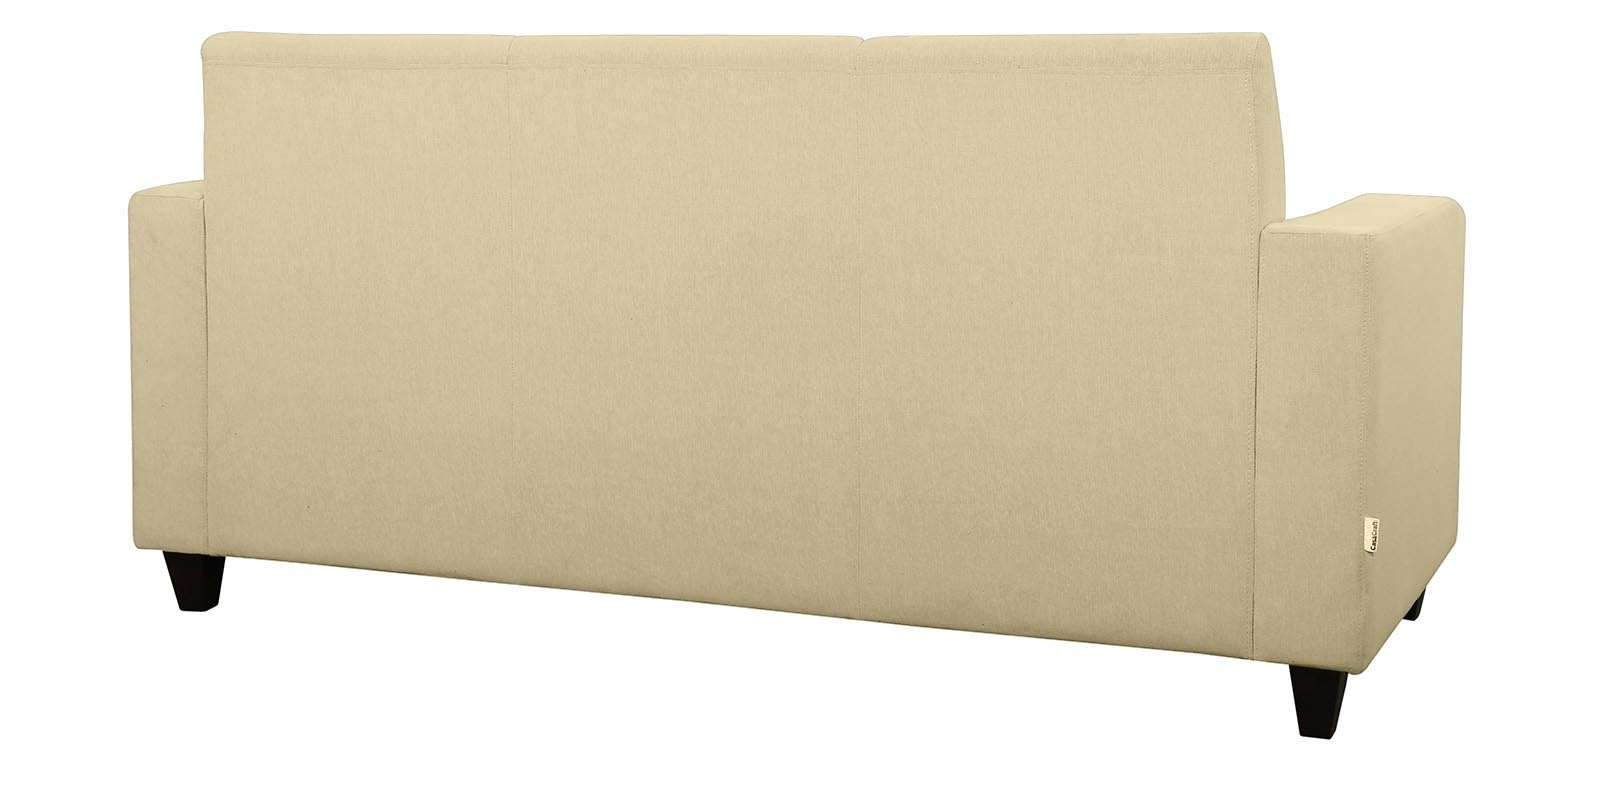Alba Three Seater Sofa in Beige Colour by CasaCraft: (98, 24, 1478, 740)
